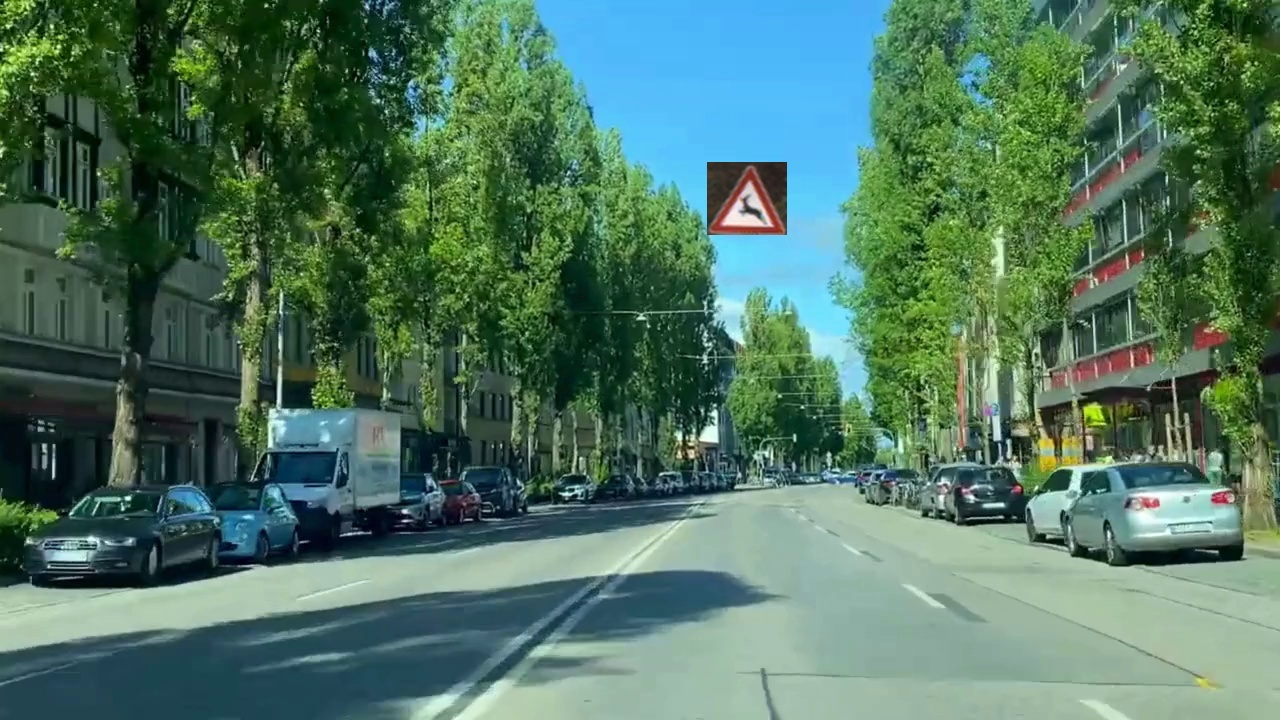Wild animals: (707, 162, 787, 235)
